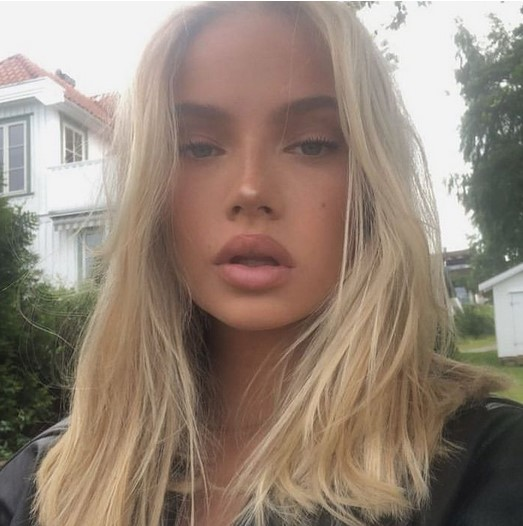face_no_mask: (132, 3, 404, 333)
